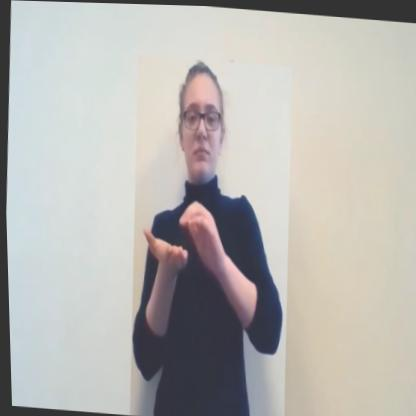ExcuseMe: (118, 53, 300, 416)
